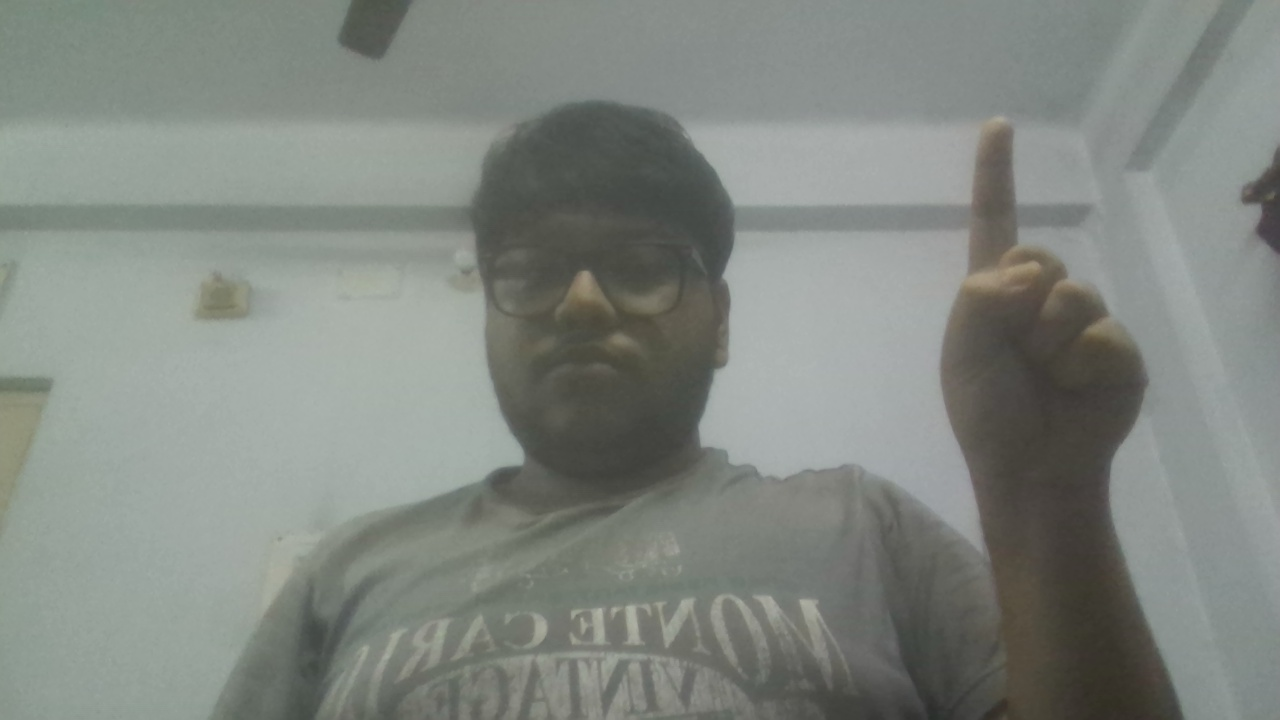Gesture1: (926, 109, 1162, 508)
